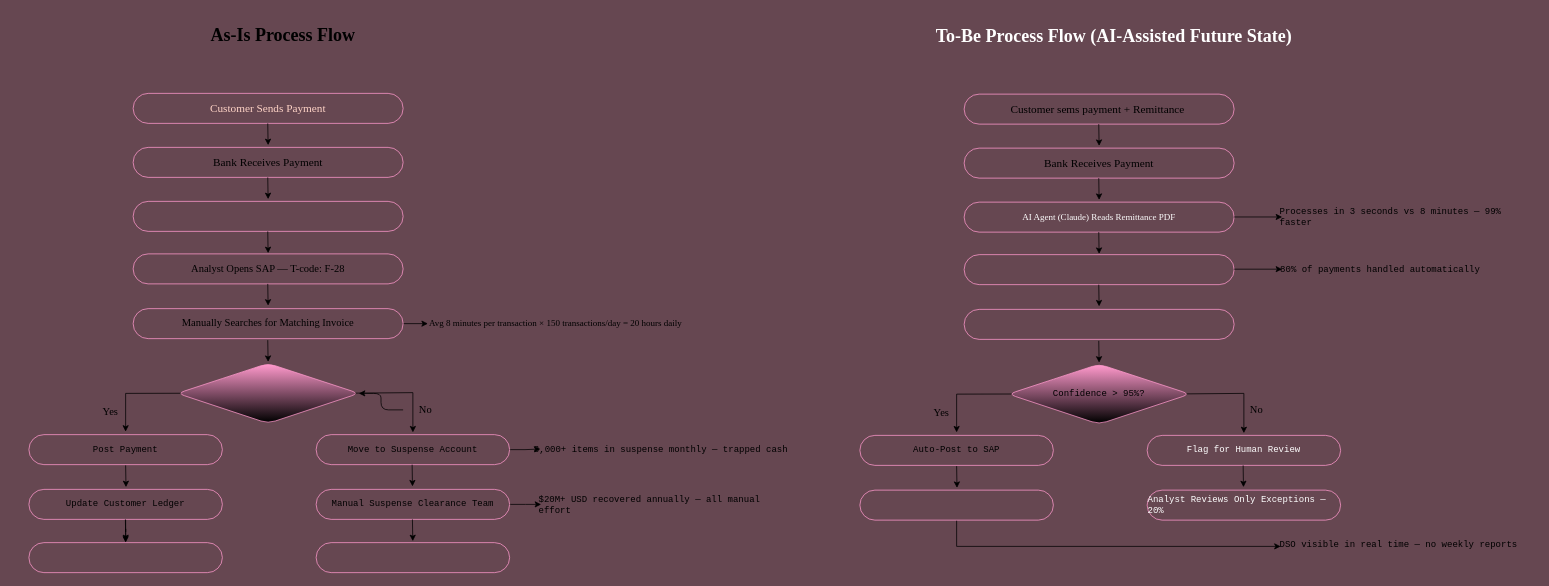
Some shapes in this 1549 by 586 pixel diagram are drawn without their labels. The centre of each missing label's shape, as x and y in pixels:
AI Extracts: Customer Name, Invoice #, Amount, Currency, Reference: point (1098, 269)
AI Matches to SAP Invoice Database: point (1098, 324)
Dashboard Updates in Real Time: point (956, 504)
Escalate to Customer for Remittance: point (412, 557)
Finance Team Downloads Bank Statement — MANUAL: point (267, 216)
Match Found?: point (268, 393)
MIS Report Updated: point (125, 557)
